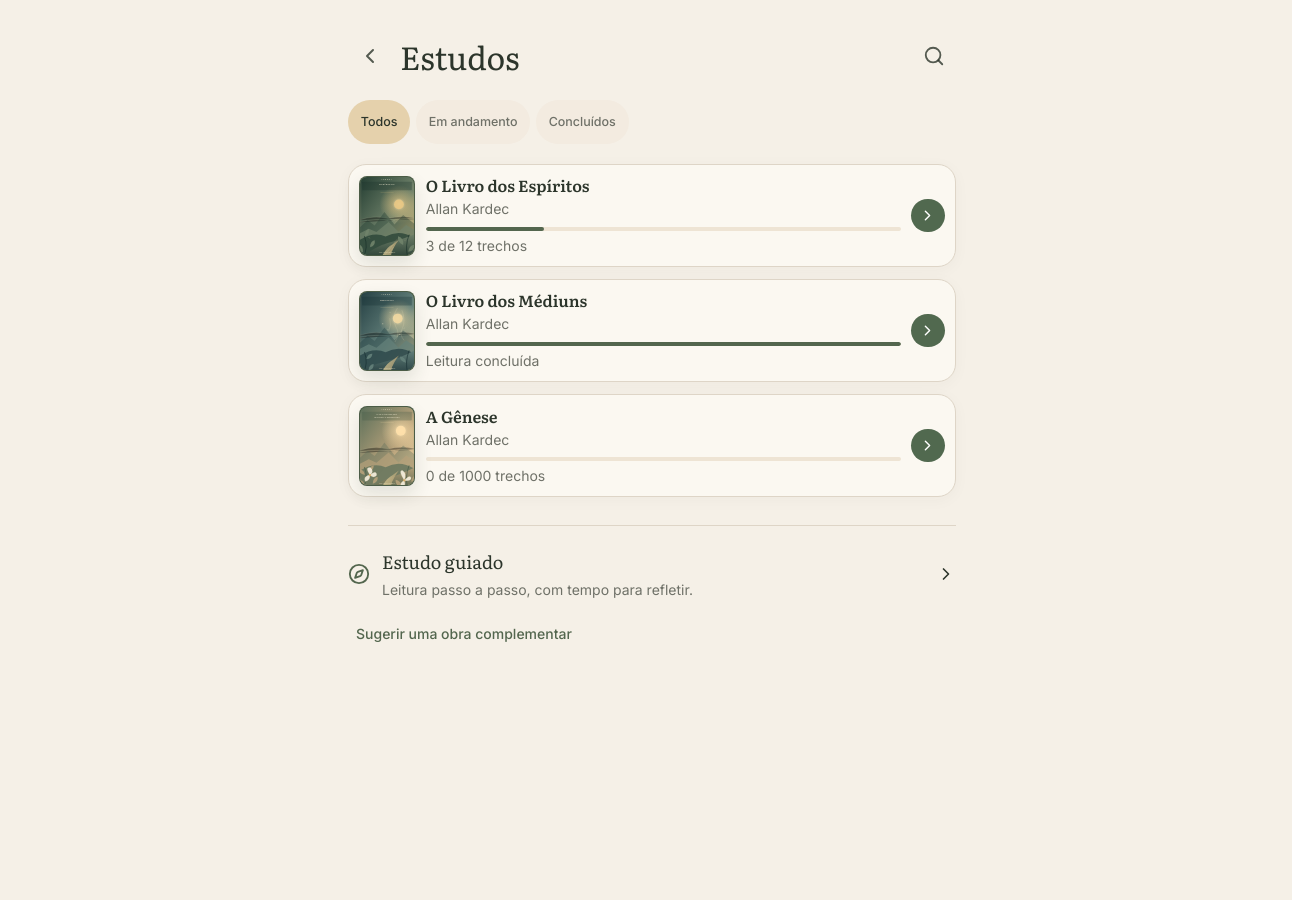
Test case: editorial product interactions › keeps guided study and source search reachable from Studies
Click the button "Estudo guiado".
click(443, 562)  # box [348,546,956,602]
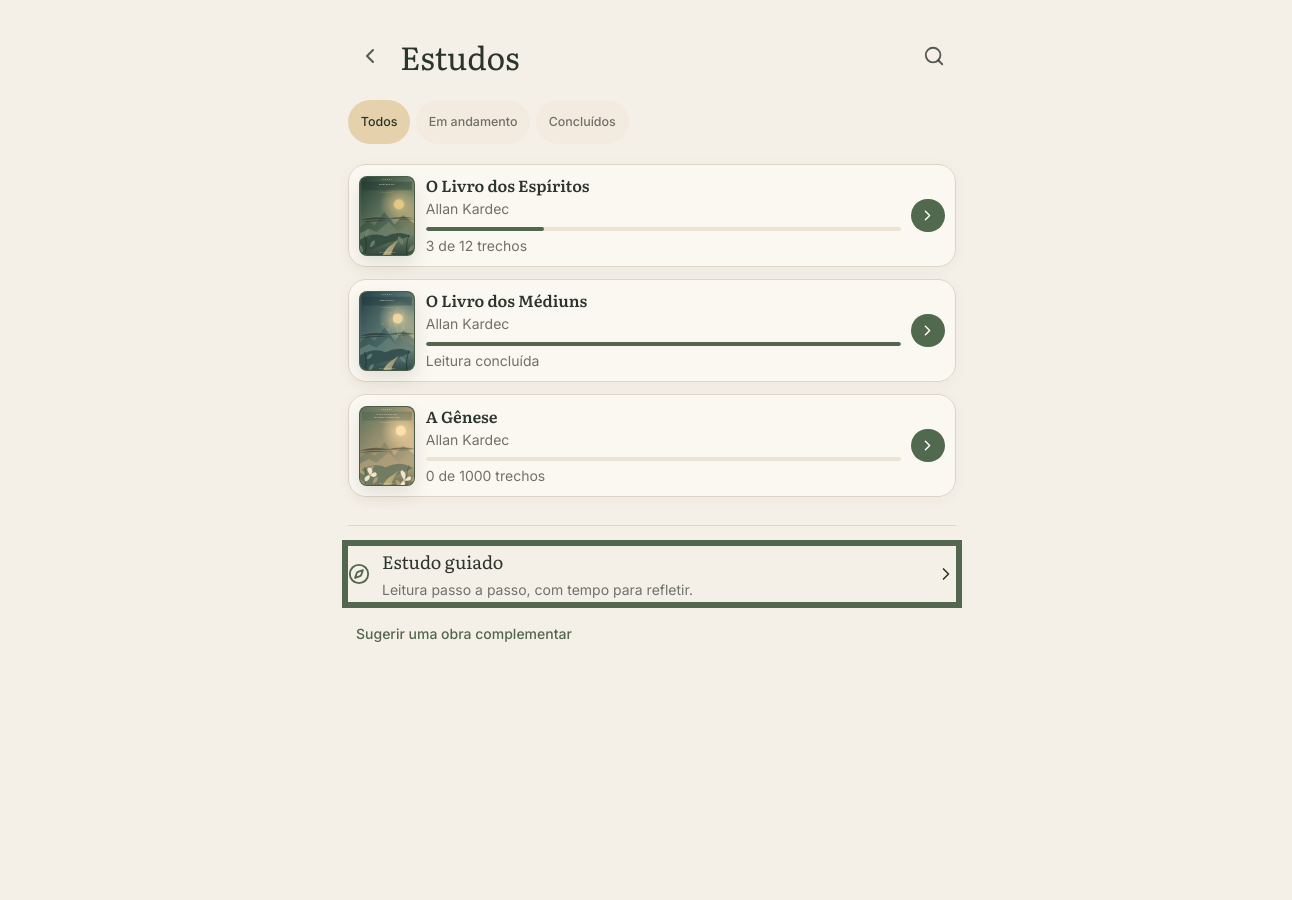
Click the button named "Pesquisar nas obras".
click(934, 56)  # box [912,34,956,78]
(page scrolled)
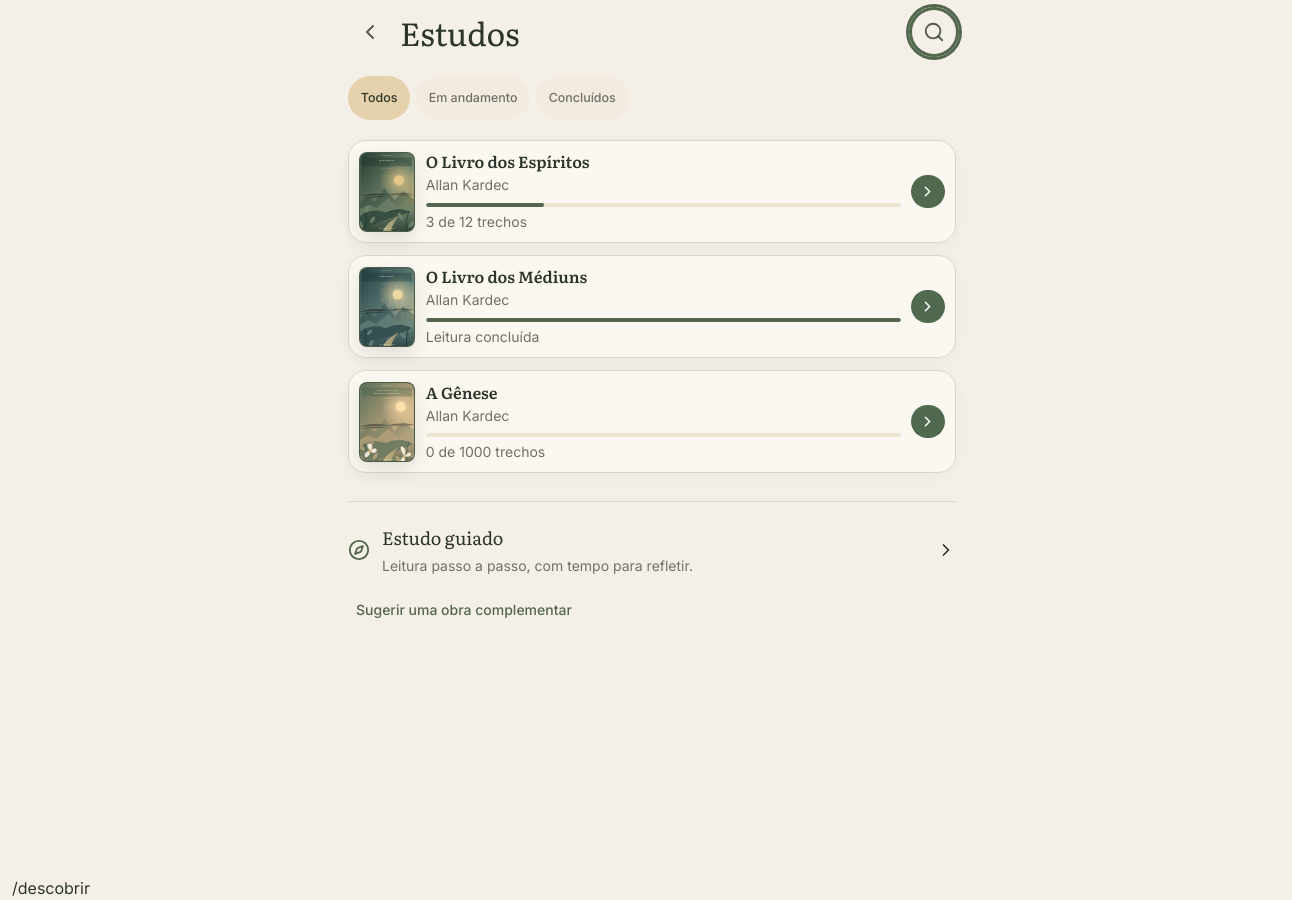
Check: the text named "Rota atual" reads "/descobrir", box [12,878,90,898]
